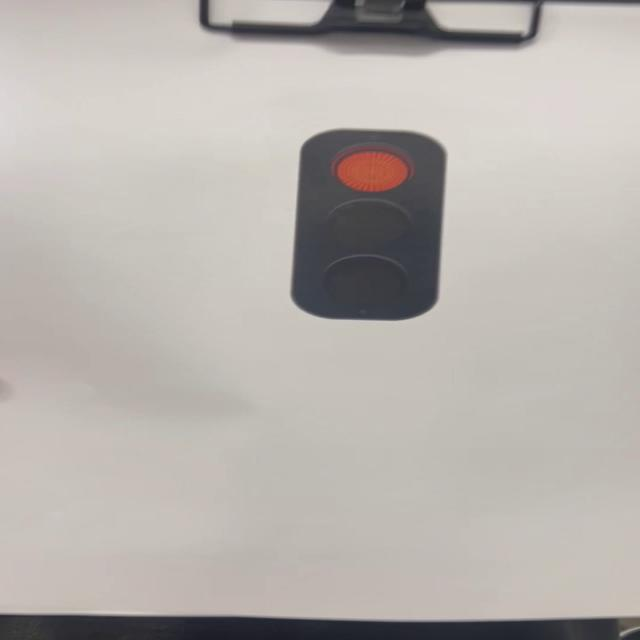red: (290, 131, 443, 322)
